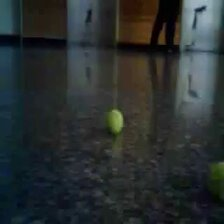tennis: (101, 108, 124, 136)
